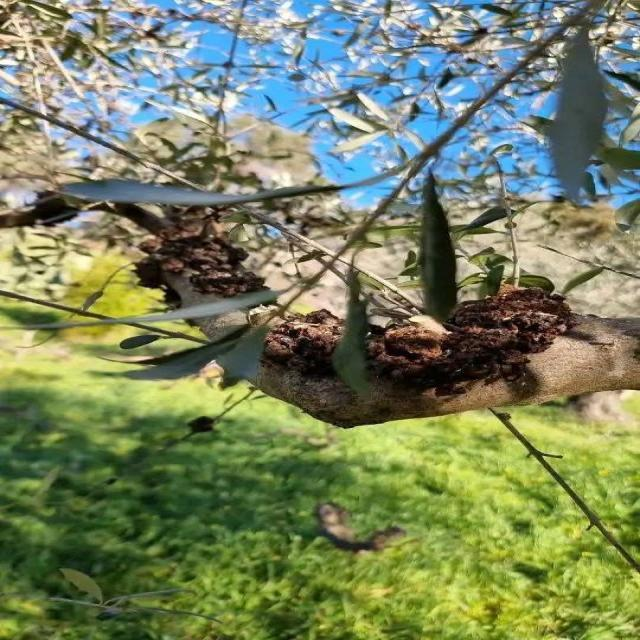Tuberculosis: (368, 286, 574, 396), (115, 205, 268, 308), (260, 310, 342, 378)
